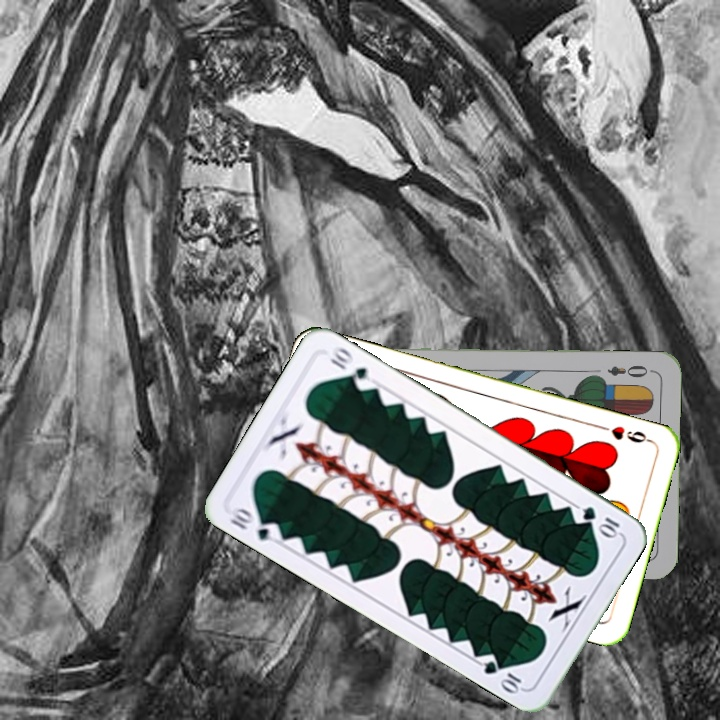EO: (603, 361, 655, 381)
G10: (226, 502, 284, 546), (578, 502, 623, 540)
H9: (597, 421, 655, 446)
